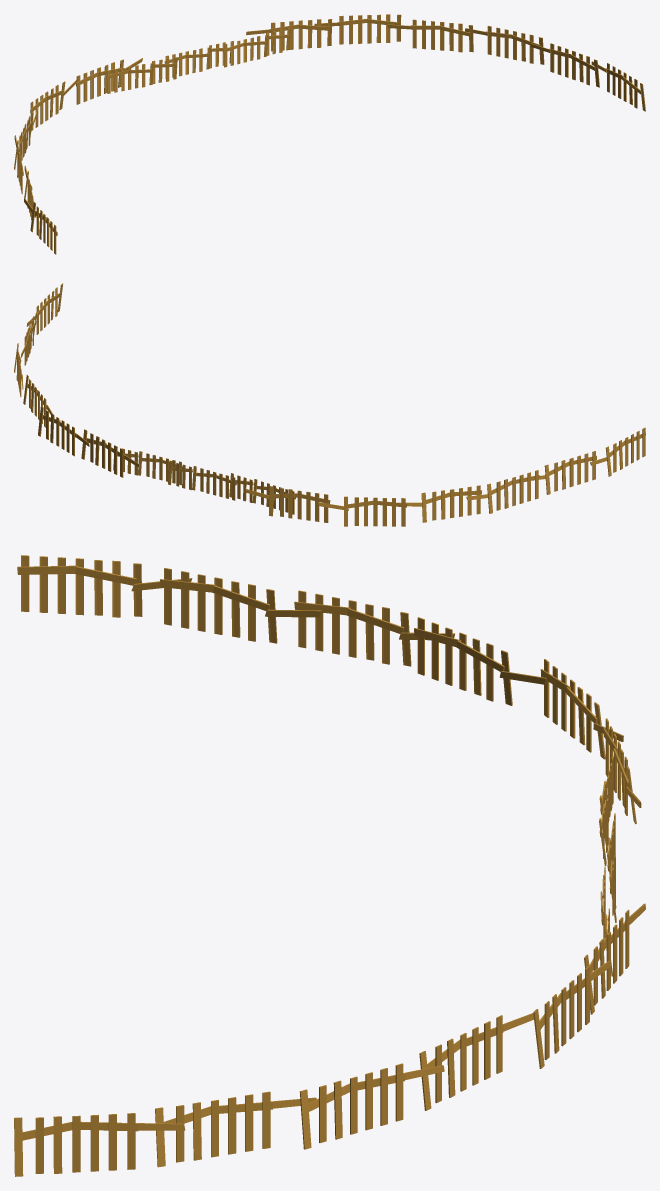
File: Shoot That Bird! Fences.fbx
3 renders of one model, top to bottom at view 1: azimuth 30°, elevation 25°; view 2: azimuth 150°, elevation 25°; view 3: azimuth 270°, elevation 25°, orthographic. The views are drawn at different scales.
Visible parts, largest first — view 1: Fence Right 4, Fence Right 5, Fence Right 3, Fence Centre Left, Fence Right 5.001, Fence Centre Right, Fence Right 2, Fence Left 6, Fence Right, Fence Centre, Fence Left 5, Fence Left (+1 smaller); view 2: Fence Left 6, Fence Left 5, Fence Left 4, Fence Centre, Fence Left 3, Fence Left 2, Fence Right 5.001, Fence Left, Fence Centre Right, Fence Right 5, Fence Centre Left, Fence Right (+2 smaller); view 3: Fence Right, Fence Left, Fence Left 2, Fence Right 2, Fence Right 3, Fence Left 3, Fence Left 4, Fence Right 4, Fence Left 5, Fence Right 5, Fence Right 5.001, Fence Left 6 (+1 smaller).
Boxes of the visible parts, x1=… form: Fence Right 4: x1=387, y1=19, x2=473, y2=52; Fence Right 5: x1=314, y1=14, x2=401, y2=44; Fence Right 3: x1=465, y1=26, x2=544, y2=64; Fence Centre Left: x1=106, y1=57, x2=177, y2=93; Fence Right 5.001: x1=246, y1=19, x2=332, y2=51; Fence Centre Right: x1=223, y1=28, x2=290, y2=67; Fence Right 2: x1=530, y1=43, x2=599, y2=87; Fence Left 6: x1=76, y1=58, x2=142, y2=104; Fence Right: x1=591, y1=61, x2=645, y2=111; Fence Centre: x1=164, y1=41, x2=233, y2=78; Fence Left 5: x1=30, y1=80, x2=76, y2=130; Fence Left: x1=24, y1=197, x2=57, y2=254; Fence Left 6: x1=245, y1=486, x2=330, y2=522; Fence Left 5: x1=318, y1=496, x2=407, y2=526; Fence Left 4: x1=400, y1=485, x2=481, y2=522; Fence Centre: x1=168, y1=460, x2=236, y2=500; Fence Left 3: x1=466, y1=470, x2=539, y2=513; Fence Left 2: x1=532, y1=451, x2=596, y2=494; Fence Right 5.001: x1=81, y1=429, x2=139, y2=477; Fence Left: x1=590, y1=427, x2=645, y2=476; Fence Centre Right: x1=113, y1=447, x2=182, y2=485; Fence Right 5: x1=38, y1=406, x2=89, y2=456; Fence Centre Left: x1=229, y1=473, x2=295, y2=514; Fence Right: x1=26, y1=283, x2=63, y2=334; Fence Right: x1=14, y1=1113, x2=185, y2=1176; Fence Left: x1=17, y1=555, x2=192, y2=617; Fence Left 2: x1=160, y1=568, x2=321, y2=643; Fence Right 2: x1=155, y1=1091, x2=316, y2=1167; Fence Right 3: x1=299, y1=1063, x2=444, y2=1149; Fence Left 3: x1=294, y1=590, x2=454, y2=666; Fence Left 4: x1=414, y1=617, x2=546, y2=705; Fence Right 4: x1=419, y1=1013, x2=533, y2=1110; Fence Left 5: x1=540, y1=659, x2=623, y2=759; Fence Right 5: x1=533, y1=960, x2=610, y2=1068; Fence Right 5.001: x1=584, y1=903, x2=645, y2=1014; Fence Left 6: x1=603, y1=718, x2=641, y2=824.
Size of the model in its own units: 12071 by 566 by 5683.
